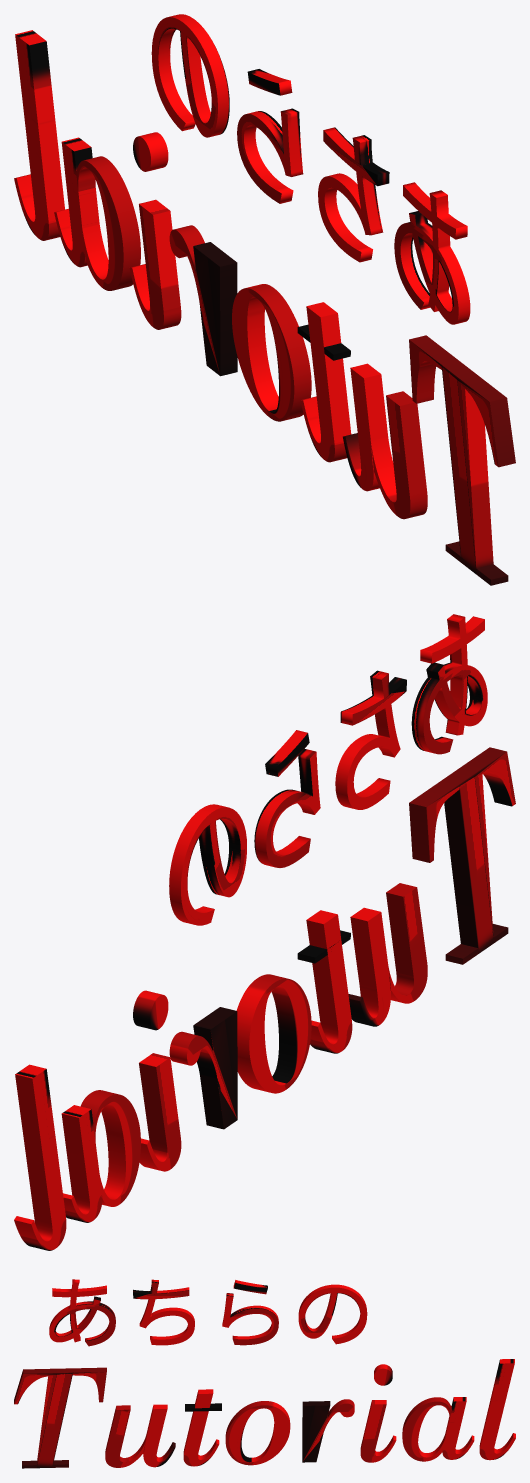
Rendered from Title_Select1.obj.
The picture shows the model from 3 angles, top to bottom: view 1: azimuth 30°, elevation 25°; view 2: azimuth 150°, elevation 25°; view 3: azimuth 270°, elevation 25°; orthographic projection. The views are drawn at different scales.
Visible parts, largest first — view 1: テキスト.002; view 2: テキスト.002; view 3: テキスト.002.
Part boxes in pixels (x1,y1,x2,y2): テキスト.002: (14, 14, 515, 585); テキスト.002: (14, 614, 515, 1250); テキスト.002: (14, 1279, 515, 1468).
Size of the model in its own units: 0.1131 by 1.65 by 4.09.
Materials: 1 (1 with a texture image).
